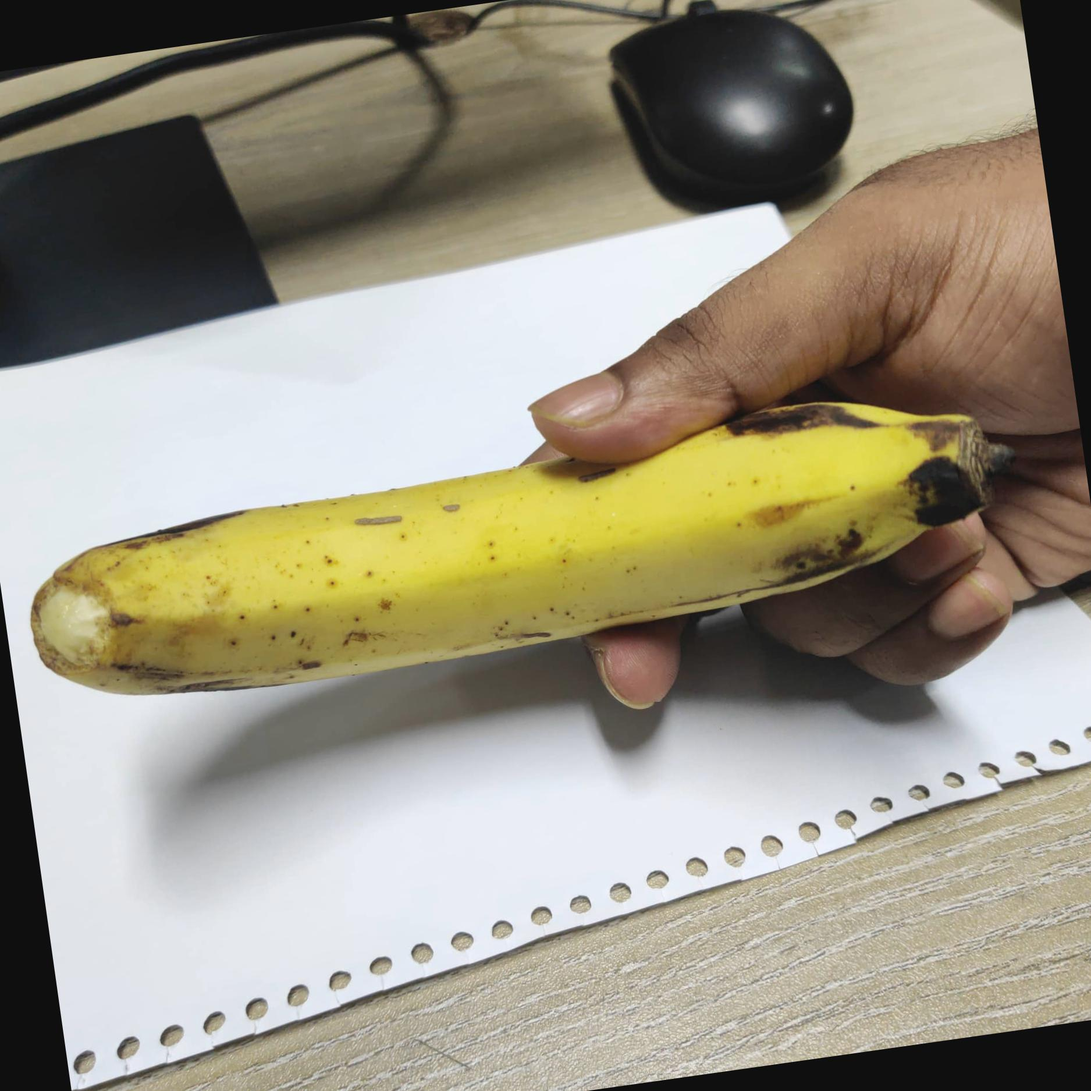Banana Ripe: (17, 361, 990, 772)
